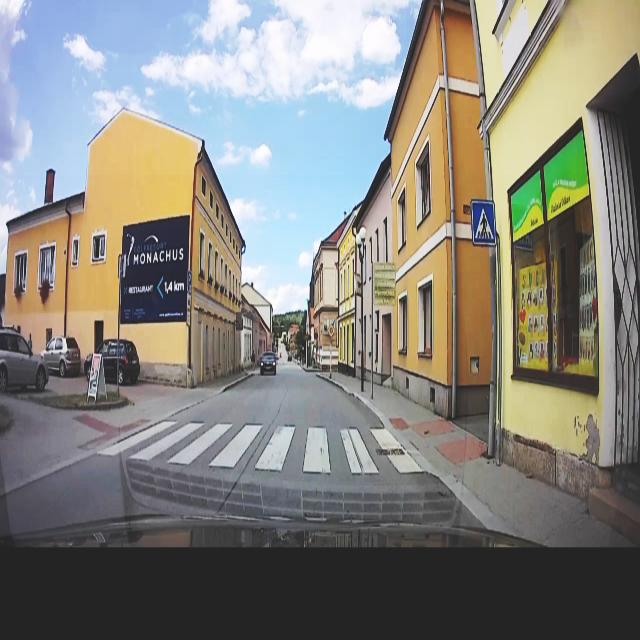Priority road: (328, 323, 336, 338)
